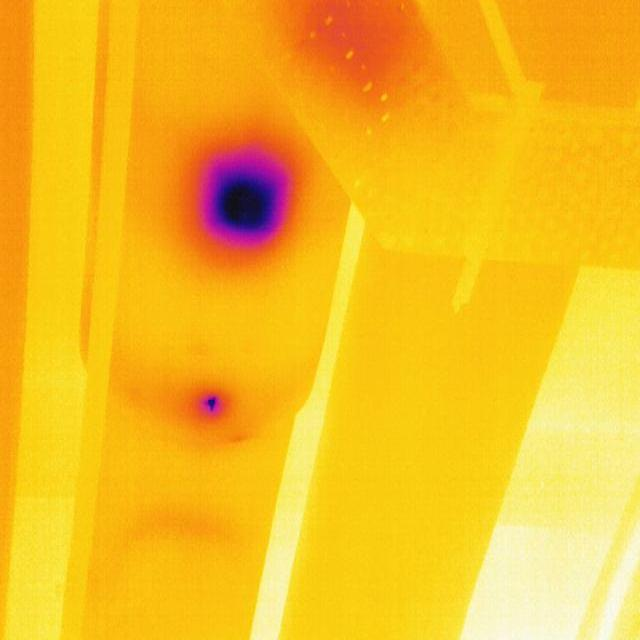leakage: (190, 143, 309, 263), (305, 0, 421, 120), (196, 389, 224, 419)
